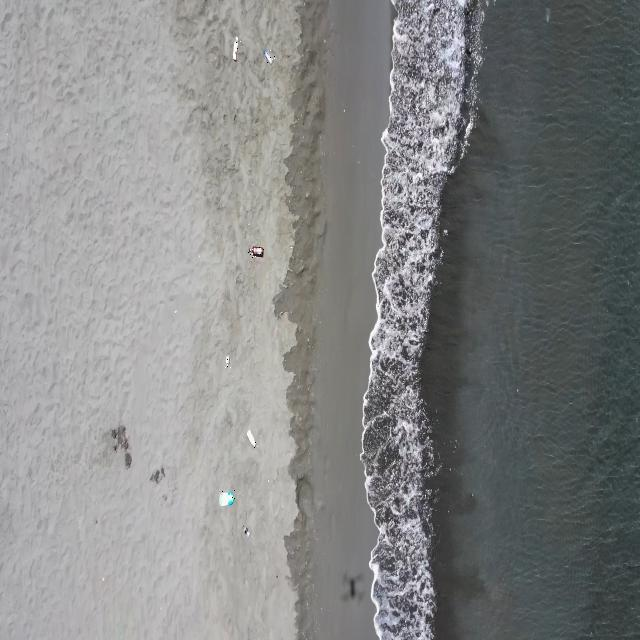Garbage: (111, 424, 131, 467), (150, 466, 163, 483), (247, 244, 263, 256), (220, 489, 231, 506), (232, 35, 238, 60), (263, 48, 273, 63), (247, 430, 255, 447), (243, 526, 248, 535), (224, 355, 227, 367)
